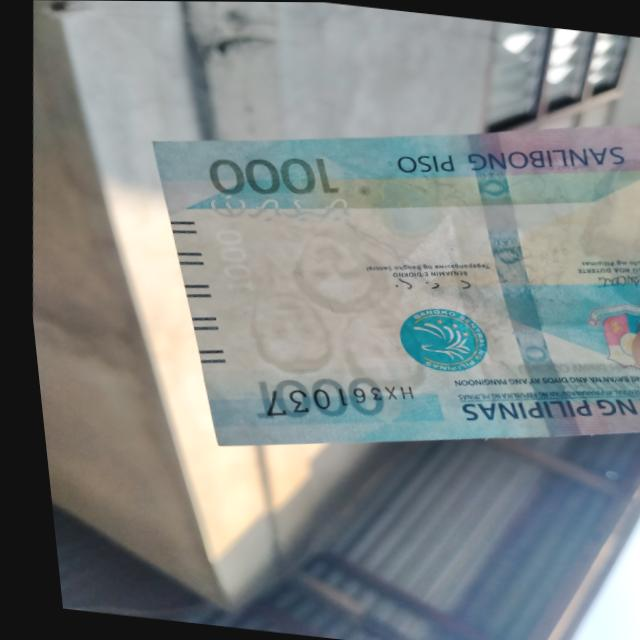security_thread: (461, 129, 571, 436)
see_through_mark: (184, 185, 365, 235)
serial_number: (227, 375, 422, 425)
value_watermark: (195, 221, 259, 294)
watermark: (225, 215, 434, 399)
